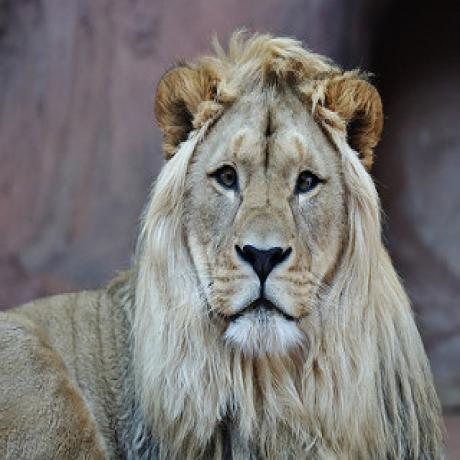Lion: (0, 20, 457, 460)
